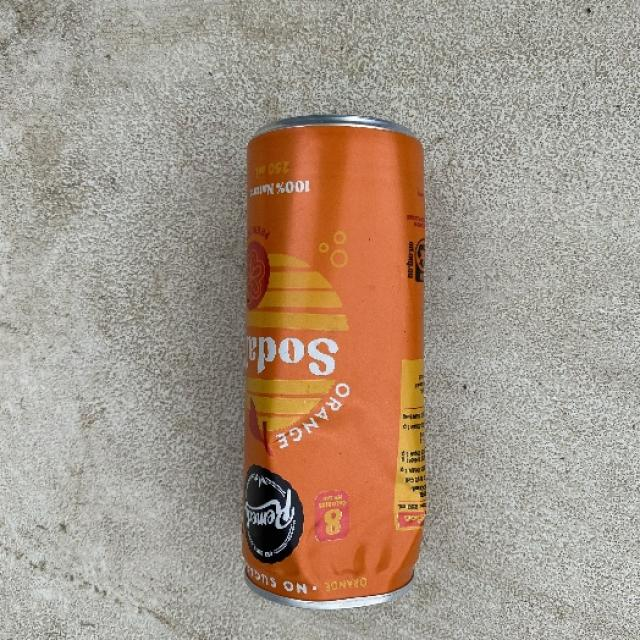metal: (240, 113, 428, 610)
